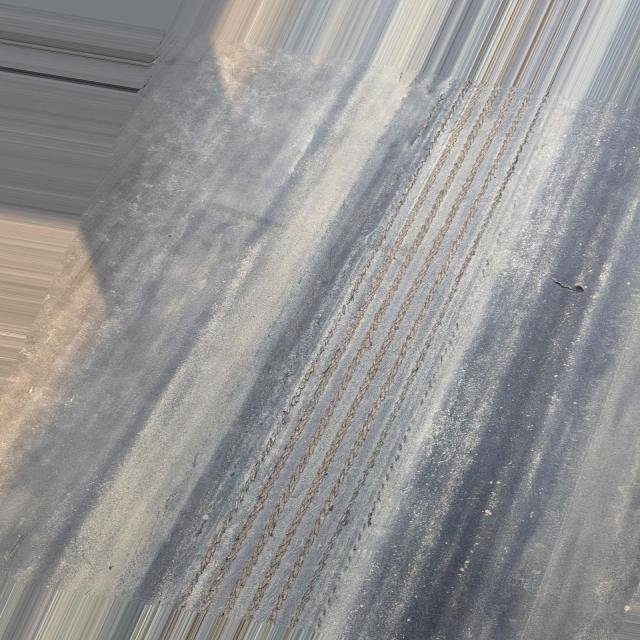Tear: (543, 257, 600, 306)
Wear: (172, 84, 552, 616)
